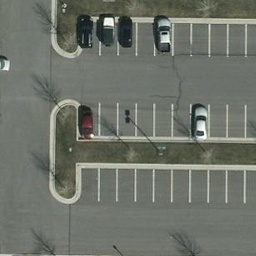car: (191, 106, 211, 140), (152, 18, 171, 53), (76, 15, 93, 49), (80, 105, 97, 139), (116, 16, 134, 47), (100, 18, 115, 48), (1, 57, 12, 75)
